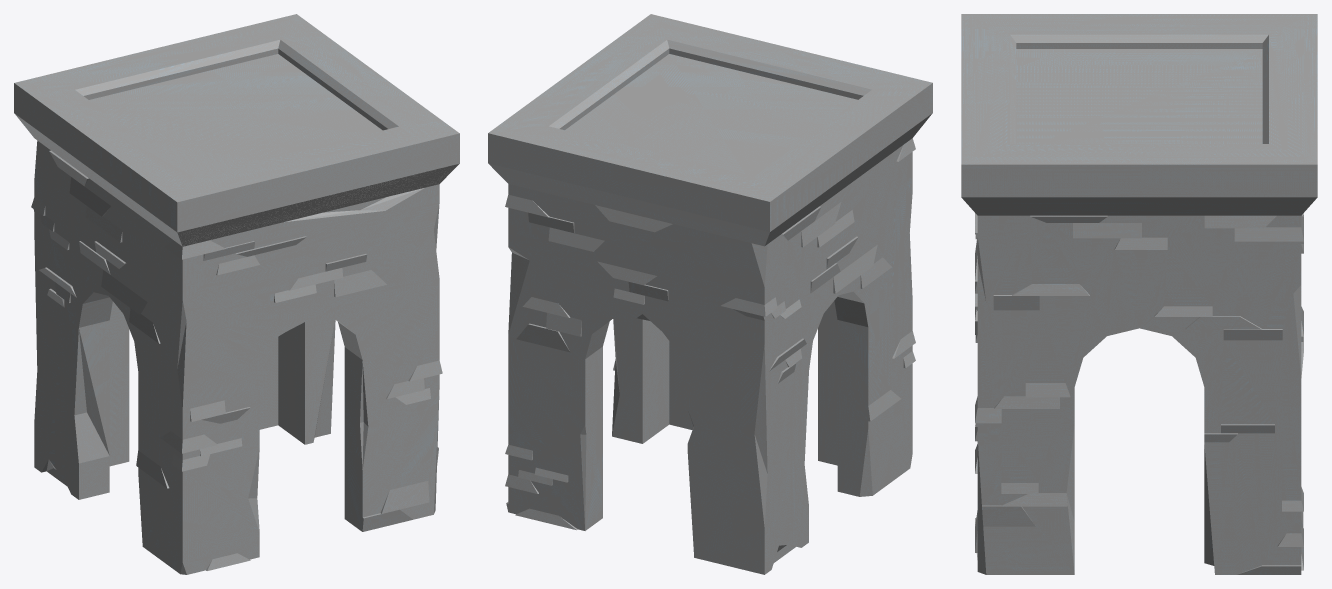
Rendered from Tower12.fbx.
3 renders of one model, left to right at view 1: azimuth 30°, elevation 25°; view 2: azimuth 150°, elevation 25°; view 3: azimuth 270°, elevation 25°, orthographic. The views are drawn at different scales.
Parts seen in each view (by area): view 1: Group1; view 2: Group1; view 3: Group1.
Boxes of the visible parts, <box> form: Group1: <box>14,14,459,574</box>; Group1: <box>488,14,932,574</box>; Group1: <box>961,14,1317,574</box>.
Size of the model in its own units: 2749 by 3553 by 2749.
